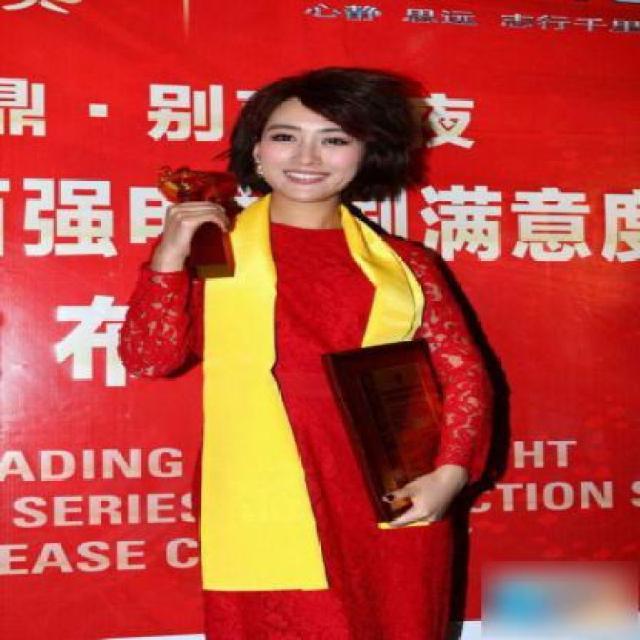Person: (177, 59, 561, 638)
